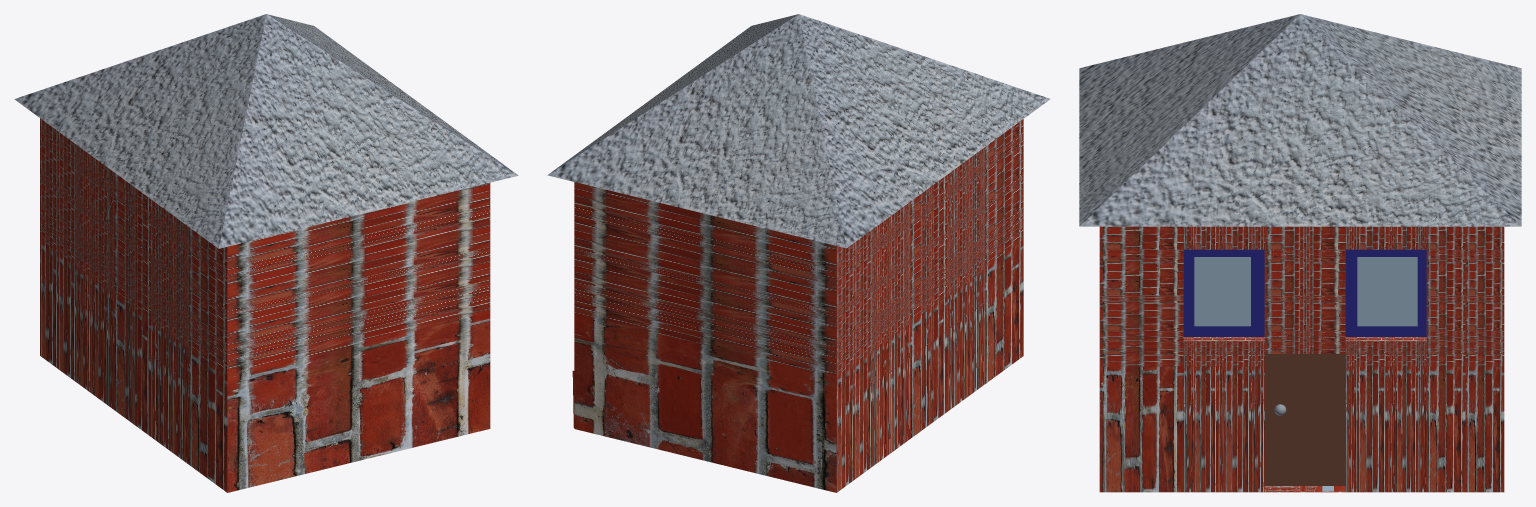
Rendered from haus1.fbx.
3 renders of one model, left to right at view 1: azimuth 30°, elevation 25°; view 2: azimuth 150°, elevation 25°; view 3: azimuth 270°, elevation 25°, orthographic. The views are drawn at different scales.
Parts seen in each view (by area): view 1: haus; view 2: haus; view 3: haus.
Part boxes in pixels (left/top/right/bottom): haus: left=14, top=14, right=518, bottom=492; haus: left=547, top=14, right=1050, bottom=492; haus: left=1079, top=14, right=1521, bottom=492.
Bounding box in the file's own units: 1174 × 994 × 1199.
